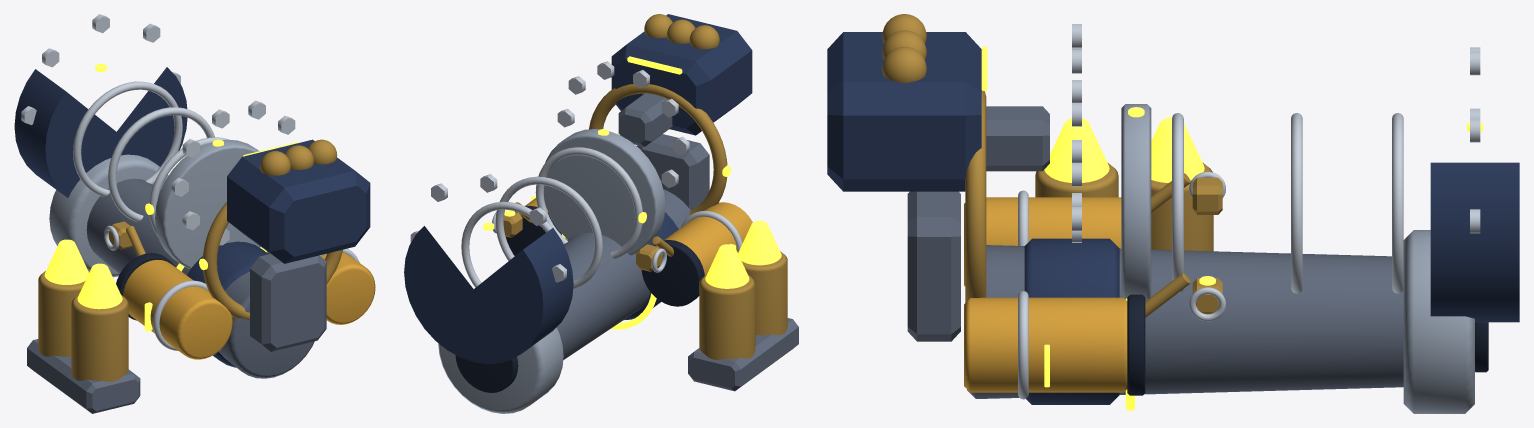
Rendered from tower_nova_damage_s10.glb.
3 renders of one model, left to right at view 1: azimuth 30°, elevation 25°; view 2: azimuth 150°, elevation 25°; view 3: azimuth 270°, elevation 25°, orthographic. The views are drawn at different scales.
Parts seen in each view (by area): view 1: nova_cluster_hopper, nova_brake_shroud, nova_barrel_b, nova_barrel_b_yoke, nova_jacket_collar, nova_napalm_can_r, nova_heavy_shell-0.16, nova_barrel_b_brake, nova_heavy_rack, nova_heavy_shell0.16, nova_napalm_can_l, nova_tube_band1.36 (+14 smaller); view 2: nova_brake_shroud, nova_jacket_collar, nova_cluster_hopper, nova_barrel_b, nova_barrel_b_brake, nova_heavy_shell0.16, nova_heavy_rack, nova_pressure_ring, nova_barrel_b_yoke, nova_napalm_can_r, nova_napalm_cap_r, nova_heavy_shell-0.16 (+19 smaller); view 3: nova_barrel_b, nova_cluster_hopper, nova_napalm_can_l, nova_brake_shroud, nova_barrel_b_brake, nova_barrel_b_yoke, nova_barrel_b_jacket, nova_jacket_collar, nova_napalm_can_r, nova_cluster_feed, nova_pressure_ring, nova_heavy_shell0.16 (+18 smaller).
Part boxes in pixels (x1,y1,x2,y2): nova_cluster_hopper: (227,139,370,263); nova_brake_shroud: (14,67,187,197); nova_barrel_b: (86,178,314,378); nova_barrel_b_yoke: (250,254,326,351); nova_jacket_collar: (155,139,260,268); nova_napalm_can_r: (123,259,232,359); nova_heavy_shell-0.16: (71,295,128,381); nova_barrel_b_brake: (49,154,168,277); nova_heavy_rack: (27,339,140,413); nova_heavy_shell0.16: (38,271,89,356); nova_napalm_can_l: (267,251,375,324); nova_tube_band1.36: (73,81,182,196); nova_brake_shroud: (404,226,573,363); nova_jacket_collar: (544,129,665,255); nova_cluster_hopper: (611,14,752,135); nova_barrel_b: (556,189,690,359); nova_barrel_b_brake: (438,327,563,413); nova_heavy_shell0.16: (699,275,755,359); nova_heavy_rack: (688,318,798,391); nova_pressure_ring: (589,84,727,215); nova_barrel_b_yoke: (636,134,709,210); nova_napalm_can_r: (664,202,752,275); nova_napalm_cap_r: (641,240,704,306); nova_heavy_shell-0.16: (737,251,787,335); nova_barrel_b: (967,245,1403,398); nova_cluster_hopper: (827,32,981,191); nova_napalm_can_l: (964,297,1127,392); nova_brake_shroud: (1430,162,1519,322); nova_barrel_b_brake: (1403,230,1474,413); nova_barrel_b_yoke: (907,191,960,341); nova_barrel_b_jacket: (1024,238,1119,404); nova_jacket_collar: (1121,104,1151,301); nova_napalm_can_r: (964,197,1121,286); nova_cluster_feed: (986,106,1049,171); nova_pressure_ring: (965,90,986,302); nova_heavy_shell0.16: (1151,162,1213,251).
Size of the model in its own units: 1.52 by 1.41 by 2.33.
